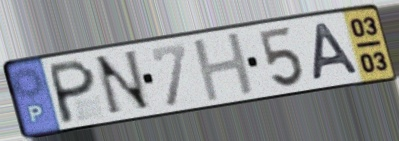5: (255, 25, 306, 88)
7: (147, 40, 191, 108)
A: (311, 20, 363, 84)
H: (189, 29, 259, 105)
N: (92, 48, 156, 120)
P: (48, 56, 98, 126)
